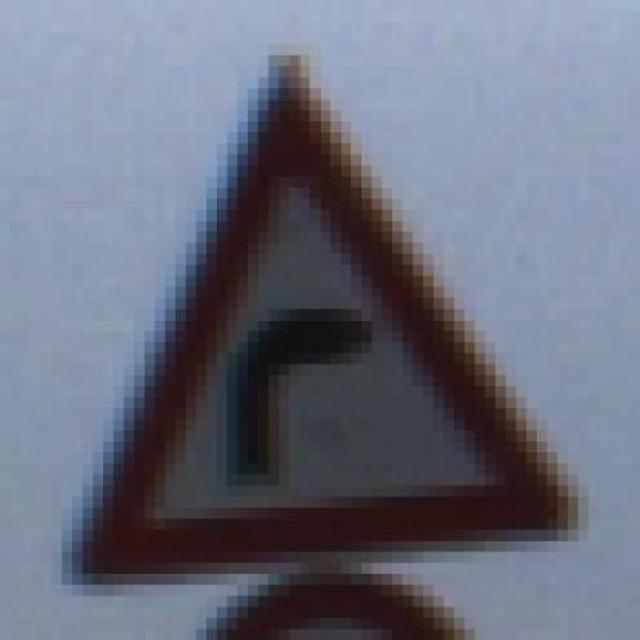Dangerous Rright Curve Ahead: (21, 44, 619, 585)
